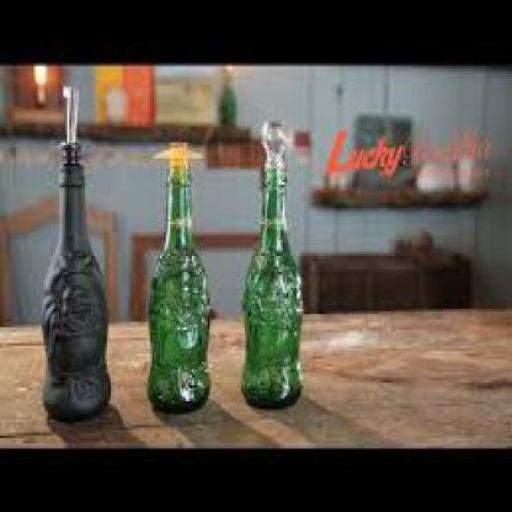glass: (40, 137, 108, 417), (144, 140, 212, 409), (239, 119, 300, 407)
metal: (61, 84, 77, 140)
